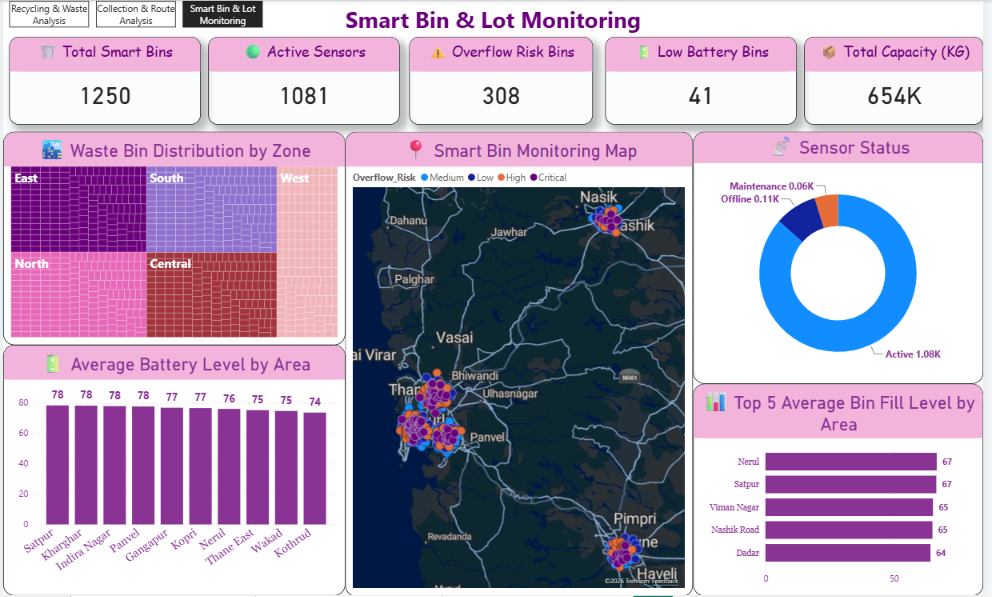

This screenshot's page, from the dashboard's own definition file:
{"tool":"powerbi","page":{"name":"Smart Bin & Lot Monitoring","canvas":[1400,850],"ordinal":2},"visuals":[{"type":"textbox","box":[0,0,1400.1,75.5],"z":0},{"type":"card","title":"🗑️ Total Smart Bins","fields":{"Values":["Count(Waste_Collection.Bin_ID)"]},"box":[8.5,51.3,273.5,125.3],"z":1000},{"type":"card","title":"🟢 Active Sensors","fields":{"Values":["Smart_Bins.Active_sensors"]},"box":[293.4,51.3,273.5,125.3],"z":2000},{"type":"card","title":"⚠️ Overflow Risk Bins","fields":{"Values":["Smart_Bins.overflow_risk_bin"]},"box":[579.7,51.3,262.1,125.3],"z":3000},{"type":"card","title":"🔋 Low Battery Bins","fields":{"Values":["Smart_Bins.low_battery_bin"]},"box":[860.3,51.3,273.5,125.3],"z":4000},{"type":"card","title":"📦 Total Capacity (KG)","fields":{"Values":["Smart_Bins.Total_Capacity"]},"box":[1143.7,51.3,256.4,125.3],"z":5000},{"type":"barChart","title":"📊  Top 5 Average Bin Fill Level by Area","fields":{"Category":["Smart_Bins.Area"],"Y":["Avg(Smart_Bins.Fill_Level_%)"]},"box":[985.6,546.9,414.5,303.4],"z":6000},{"type":"donutChart","title":"📡 Sensor Status","fields":{"Category":["Smart_Bins.Sensor_Status"],"Y":["CountNonNull(Smart_Bins.Bin_ID)"]},"box":[985.6,186.6,414.5,360.3],"z":7000},{"type":"azureMap","title":"📍 Smart Bin Monitoring Map","fields":{"Series":["Smart_Bins.Overflow_Risk"],"Size":["CountNonNull(Smart_Bins.Fill_Level_%)"],"X":["Smart_Bins.GPS_Longitude"],"Y":["Smart_Bins.GPS_Latitude"]},"box":[488.5,186.6,497.1,663.7],"z":8000},{"type":"columnChart","title":"🔋 Average Battery Level by Area","fields":{"Category":["Smart_Bins.Area"],"Y":["Avg(Smart_Bins.Battery_%)"]},"box":[0,491.4,489,358],"z":9000},{"type":"treemap","title":"🏙️ Waste Bin Distribution by Zone","fields":{"Details":["Smart_Bins.Bin_ID"],"Group":["Smart_Bins.Zone"],"Values":["CountNonNull(Smart_Bins.Capacity_KG)"]},"box":[0,186.6,488.5,304.8],"z":9001},{"type":"pageNavigator","box":[8.5,0,363.2,38.5],"z":9002}]}

Visuals, with their boxes in screenshot pixels (x1, y1, x2, y2), scaled from the page's 1400x850 canvas onto the 992x597 screenshot:
textbox: [0, 0, 991, 53]
"🗑️ Total Smart Bins" card: [6, 36, 200, 124]
"🟢 Active Sensors" card: [208, 36, 402, 124]
"⚠️ Overflow Risk Bins" card: [411, 36, 596, 124]
"🔋 Low Battery Bins" card: [610, 36, 803, 124]
"📦 Total Capacity (KG)" card: [810, 36, 991, 124]
"📊  Top 5 Average Bin Fill Level by Area" barChart: [698, 384, 991, 596]
"📡 Sensor Status" donutChart: [698, 131, 991, 384]
"📍 Smart Bin Monitoring Map" azureMap: [346, 131, 698, 596]
"🔋 Average Battery Level by Area" columnChart: [0, 345, 346, 596]
"🏙️ Waste Bin Distribution by Zone" treemap: [0, 131, 346, 345]
pageNavigator: [6, 0, 263, 27]
